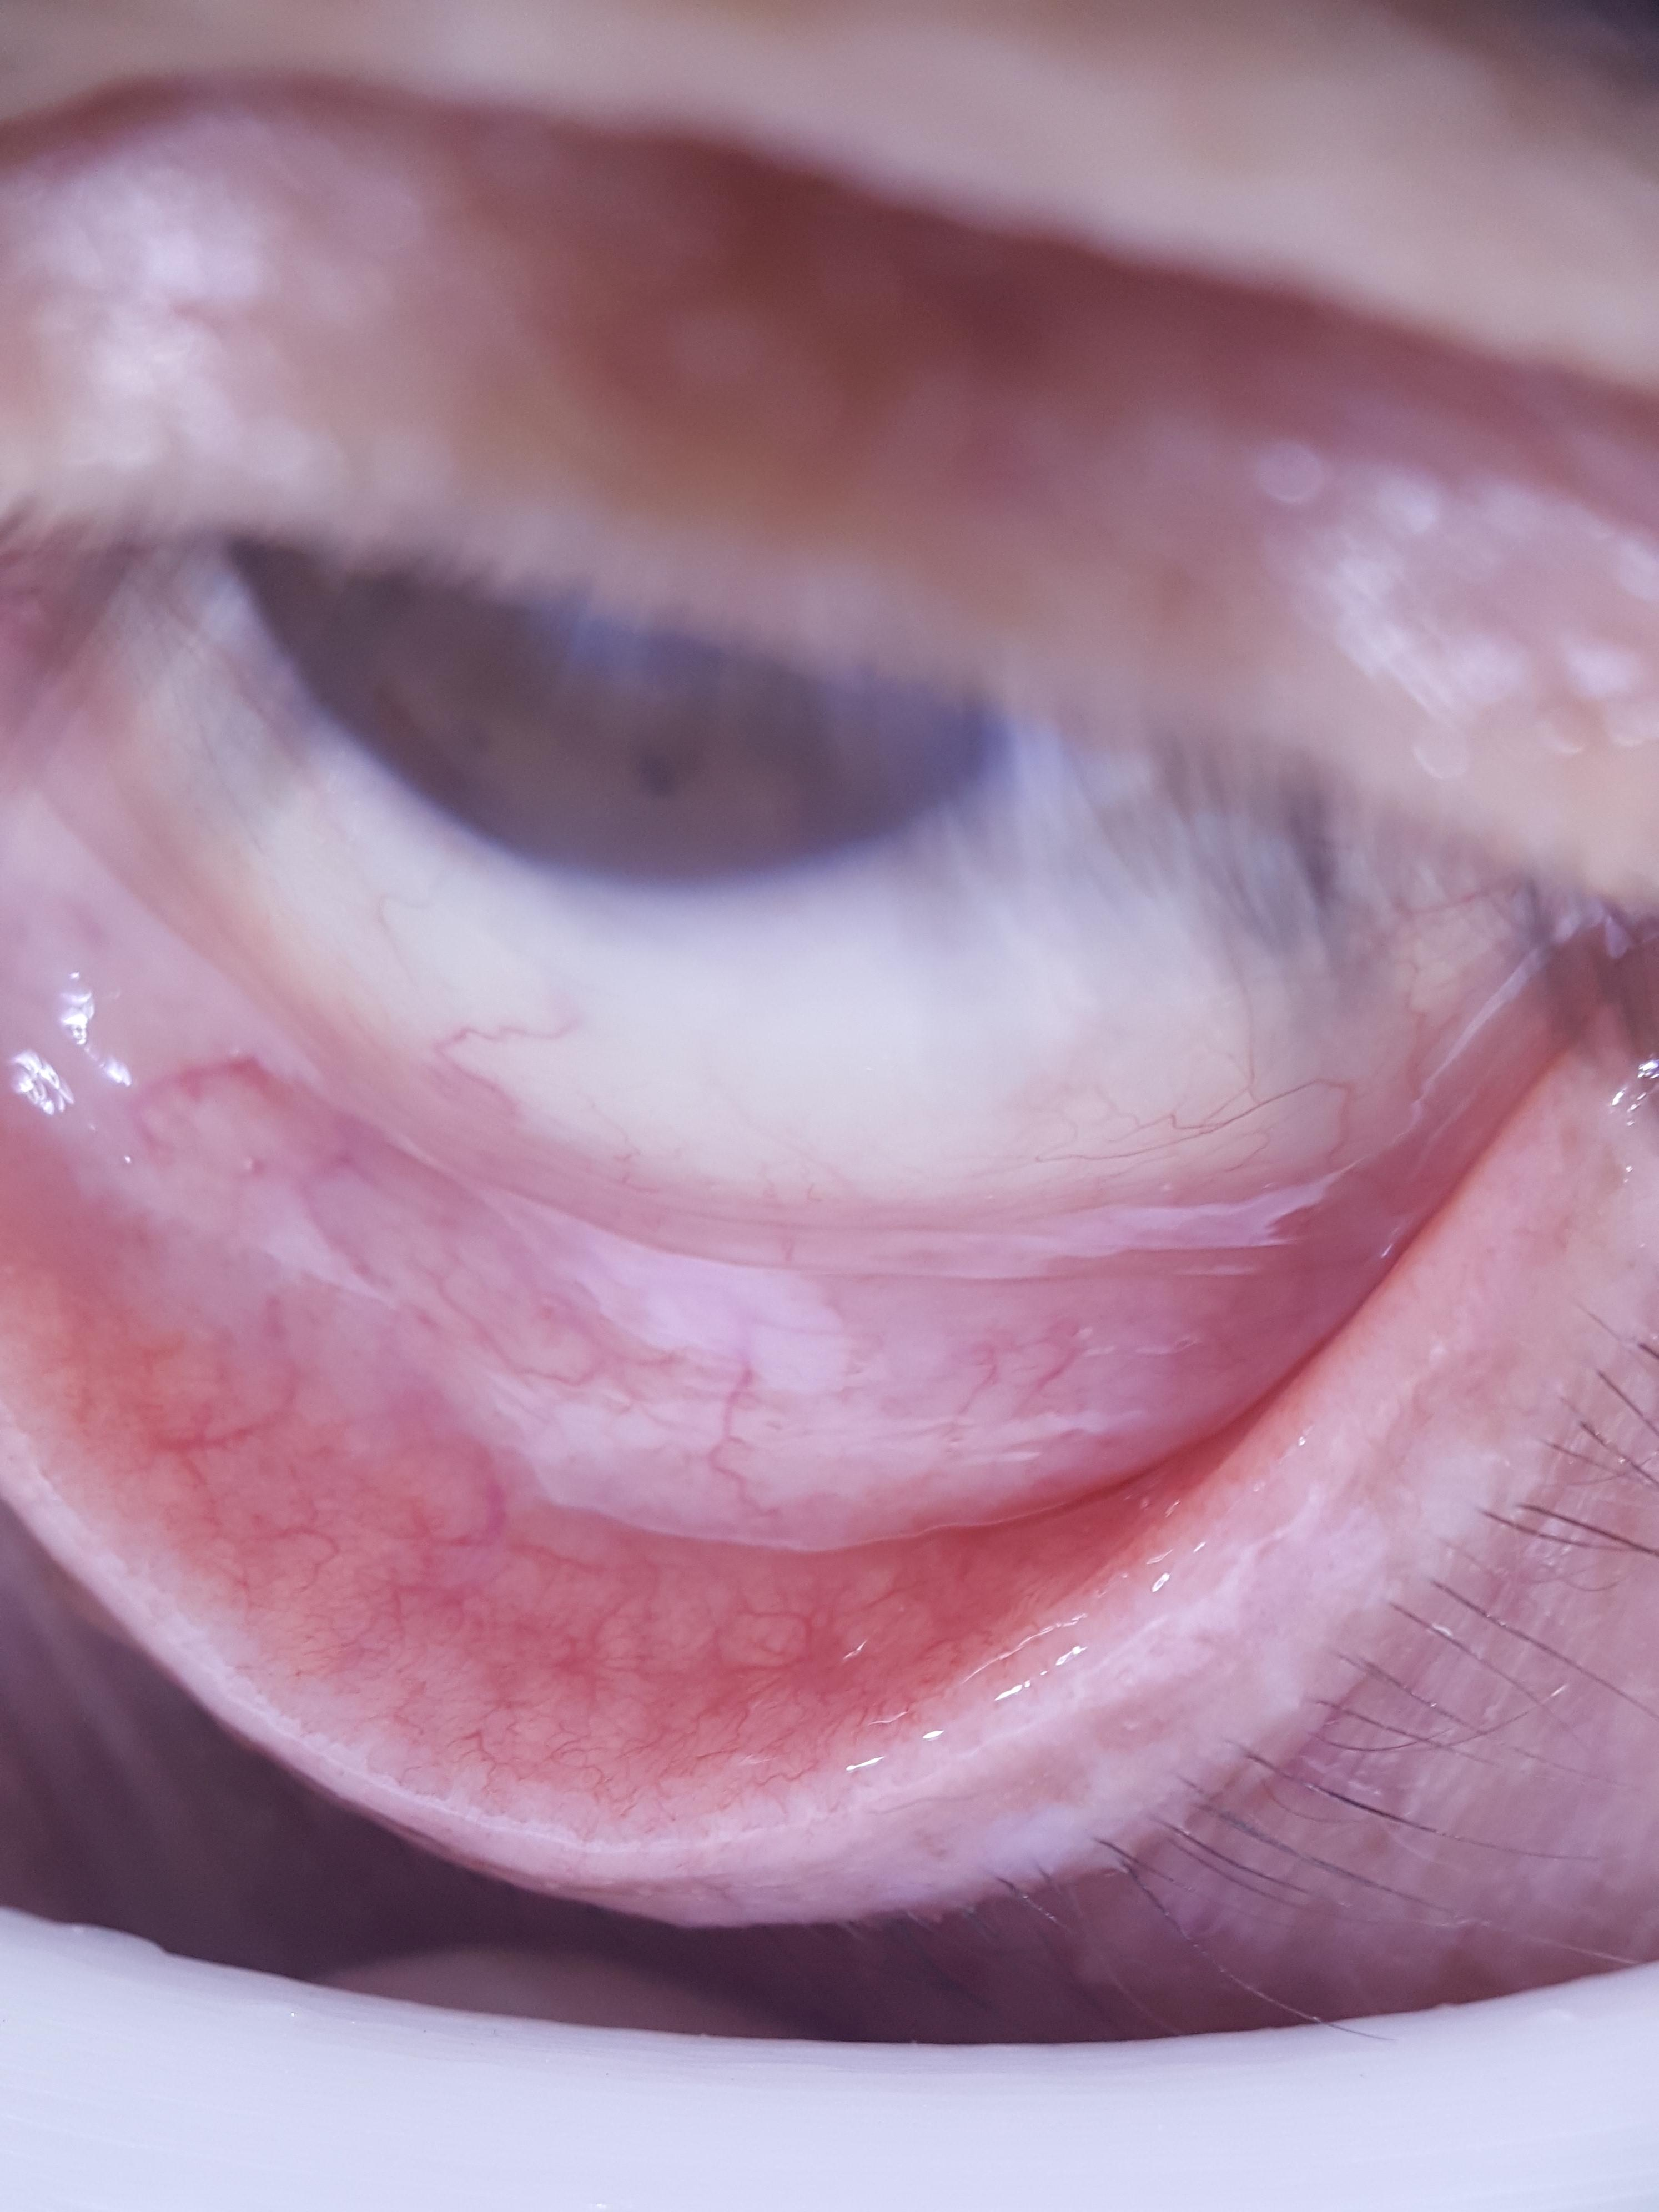forniceal: (10, 878, 1399, 1543)
forniceal_palpebral: (10, 878, 1389, 1799)
palpebral: (23, 1089, 1255, 1777)
